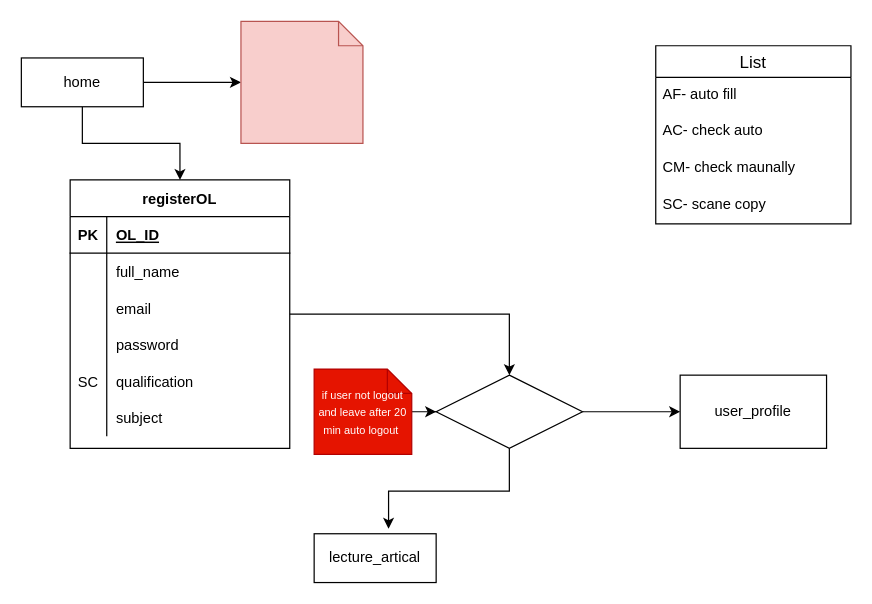
This 872x604 diagram has some shape labels left out. The shapes that lost their labels are listed below. From the top down, each one's centre as x and y in pixels, then its label:
At point (301, 81): "online registed lec can upoad the lecture-articals only".
At point (509, 411): "log_in".
